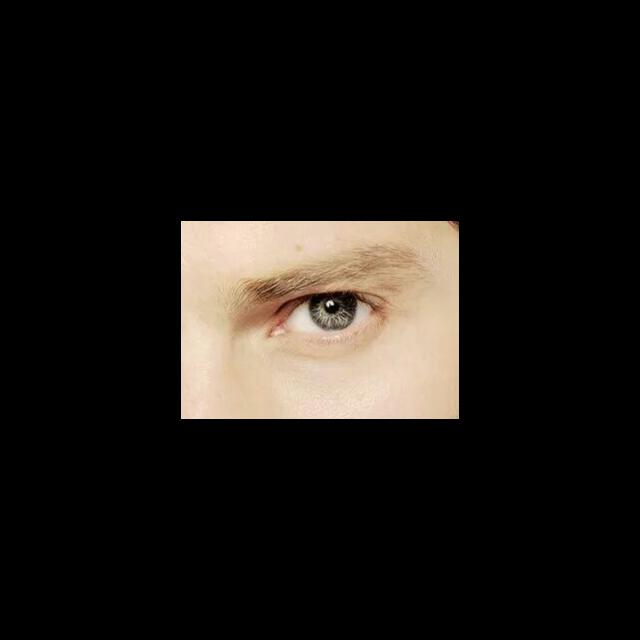eye: (286, 295, 375, 332)
iris: (309, 296, 357, 330)
